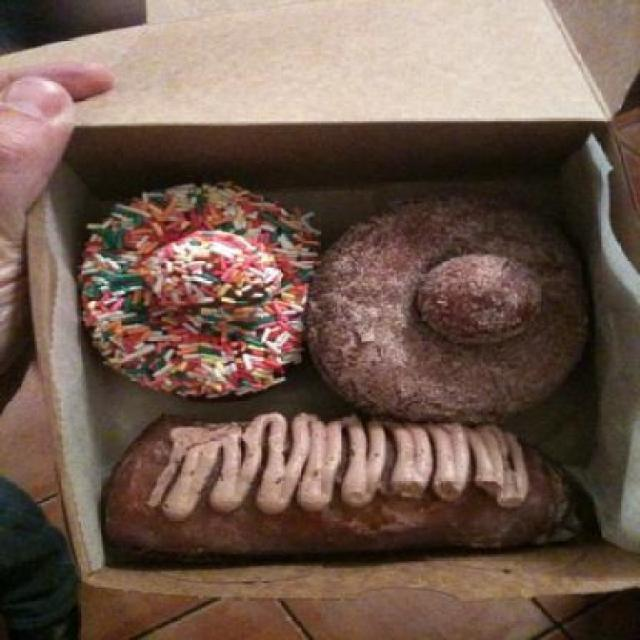Donuts: (66, 181, 618, 565)
